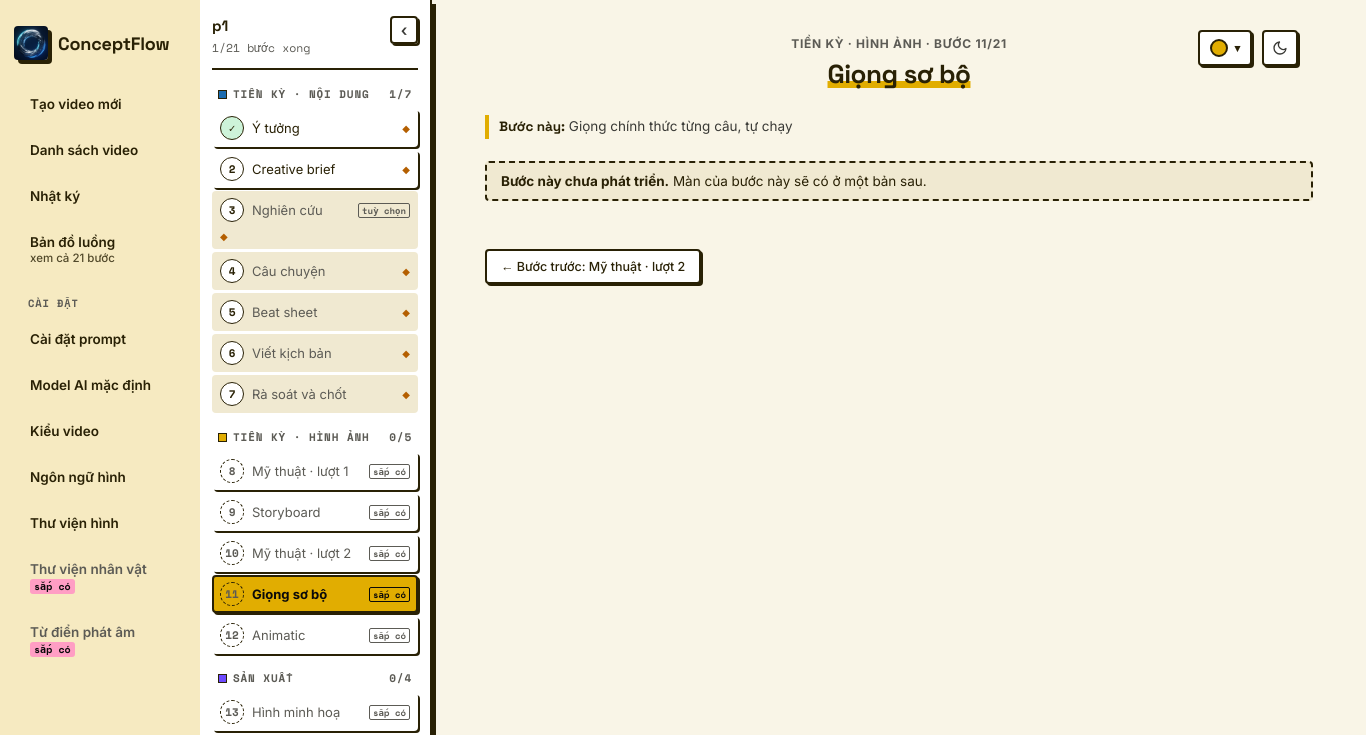
Scenario: ComingStepPage › offers another not-developed step as the step before, when that is what precedes it
Check: the heading reads "Giọng sơ bộ", box 828,57 -> 970,91
Click the button with test id "coming-step-back": (593, 266) 485,249 -> 701,284
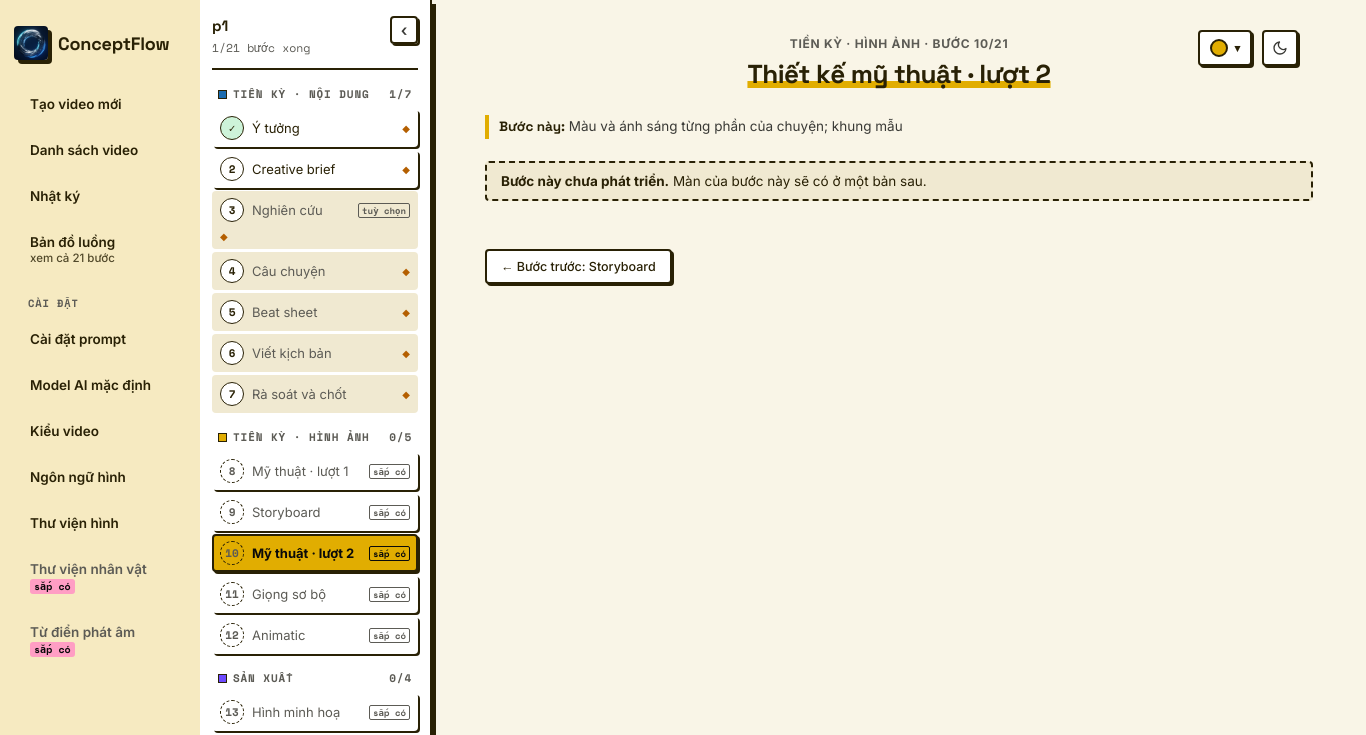
Check: the heading reads "Thiết kế mỹ thuật · lượt 2", box 747,57 -> 1050,91
Check: the text with test id "phase-line" shows "Bước 10/21", box 790,36 -> 1008,51
